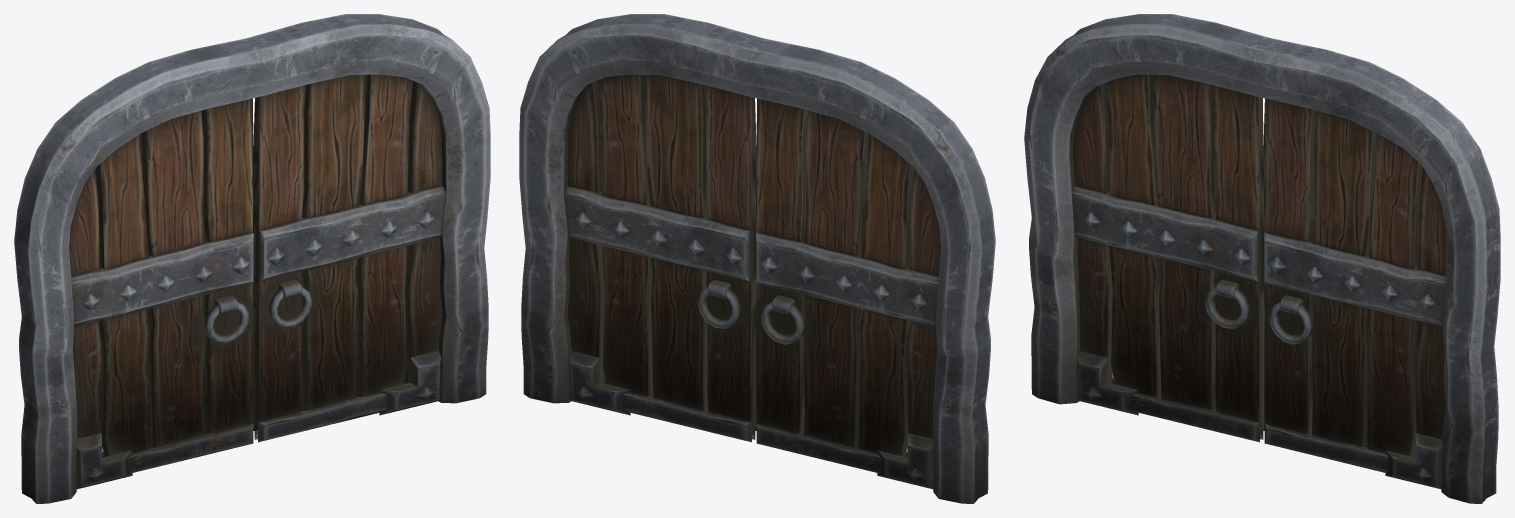
The model's file is SM_Door.fbx.
The picture shows the model from 3 angles, left to right: view 1: azimuth 30°, elevation 25°; view 2: azimuth 150°, elevation 25°; view 3: azimuth 330°, elevation 25°; orthographic projection.
Parts seen in each view (by area): view 1: SM_Door; view 2: SM_Door; view 3: SM_Door.
Boxes of the visible parts, x1,y1,x2,y2 form: SM_Door: (14, 14, 490, 503); SM_Door: (519, 14, 995, 503); SM_Door: (1024, 14, 1500, 503).
Size of the model in its own units: 4.08 by 3.4 by 0.3328.
